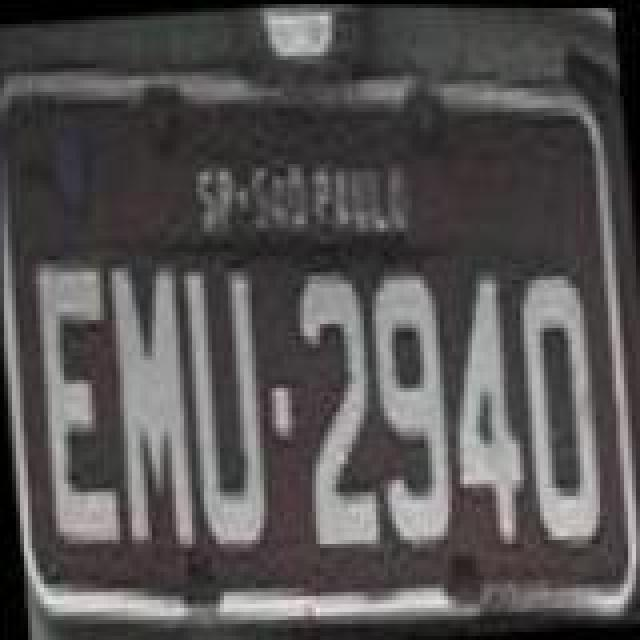2: (288, 264, 384, 560)
4: (440, 270, 528, 554)
9: (368, 264, 456, 548)
E: (30, 258, 130, 550)
M: (104, 256, 200, 552)
O: (514, 268, 606, 552)
U: (180, 262, 276, 554)
